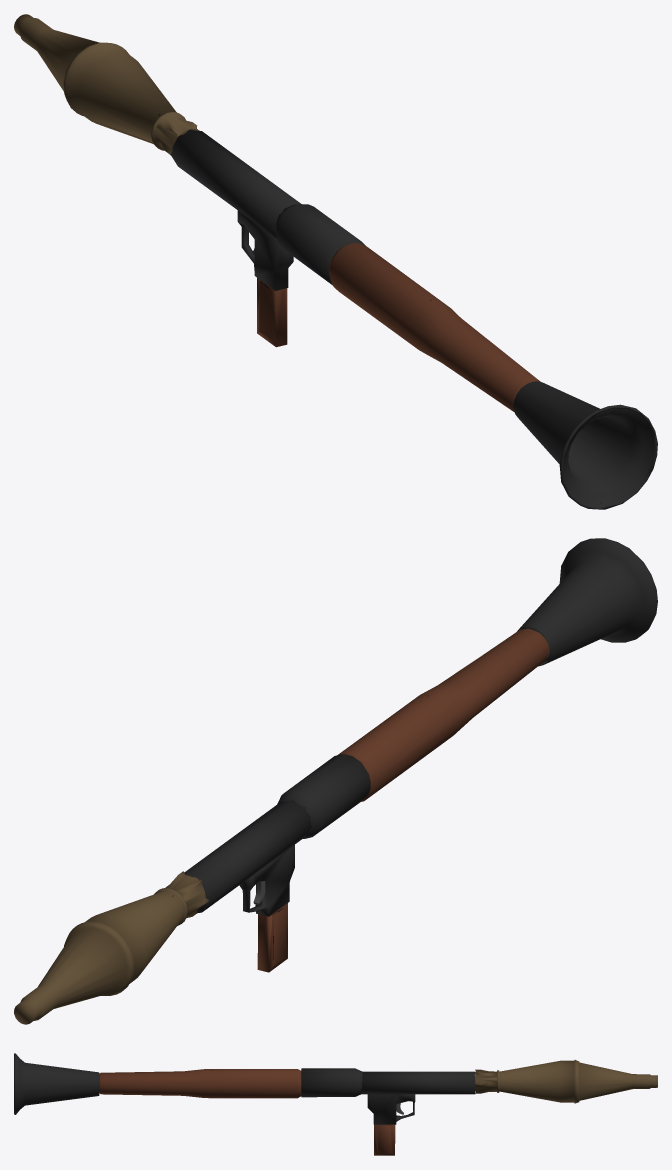
The model's file is rpg.fbx.
The picture shows the model from 3 angles, top to bottom: view 1: azimuth 30°, elevation 25°; view 2: azimuth 150°, elevation 25°; view 3: azimuth 270°, elevation 25°; orthographic projection. The views are drawn at different scales.
Visible parts, largest first — view 1: RPG; view 2: RPG; view 3: RPG.
Part boxes in pixels (x1=…): RPG: x1=14, y1=14, x2=657, y2=509; RPG: x1=14, y1=538, x2=657, y2=1024; RPG: x1=14, y1=1053, x2=657, y2=1155.
Bounding box in the file's own units: 0.1502 × 0.2639 × 1.57.
